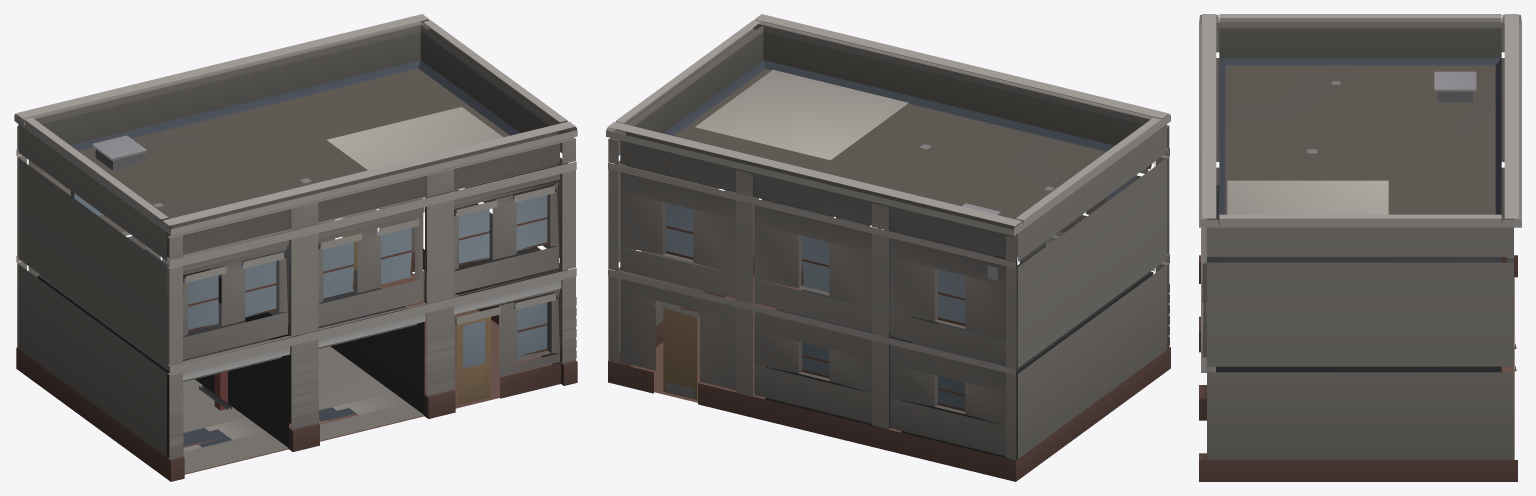
Rendered from repair.lod.glb.
3 renders of one model, left to right at view 1: azimuth 30°, elevation 25°; view 2: azimuth 150°, elevation 25°; view 3: azimuth 270°, elevation 25°, orthographic. The views are drawn at different scales.
Parts seen in each view (by area): view 1: repair; view 2: repair; view 3: repair.
Boxes of the visible parts, bbox=[...] form: repair: bbox=[14, 14, 577, 481]; repair: bbox=[606, 14, 1170, 481]; repair: bbox=[1199, 14, 1521, 481].
Bounding box in the file's own units: 12 × 7.2 × 8.
